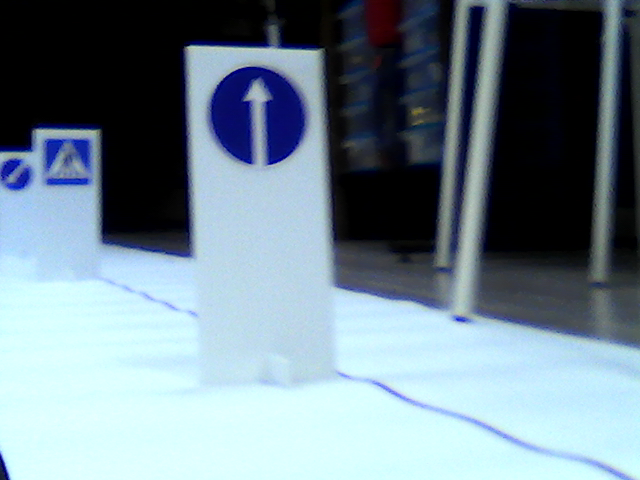forw: (208, 67, 307, 168)
pesh: (43, 136, 94, 187)
prep: (1, 157, 34, 191)
